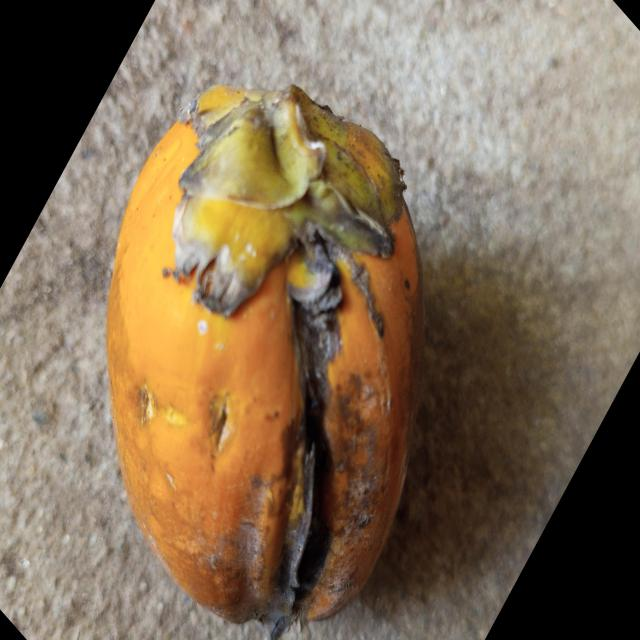damaged: (103, 86, 427, 640)
